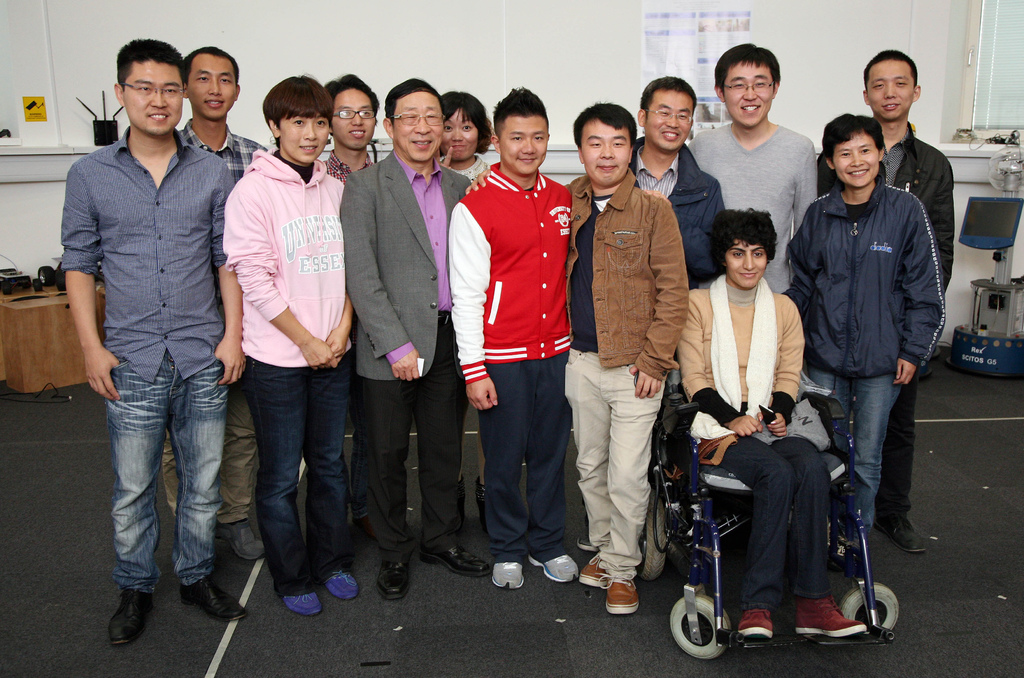Footwear: (784, 587, 867, 638), (107, 579, 153, 650), (188, 579, 250, 624), (430, 549, 506, 583), (604, 576, 643, 620), (324, 570, 359, 606), (732, 611, 775, 638), (288, 591, 321, 626), (545, 554, 575, 590), (238, 529, 262, 565), (575, 554, 600, 586), (388, 563, 408, 601), (500, 563, 523, 596)
